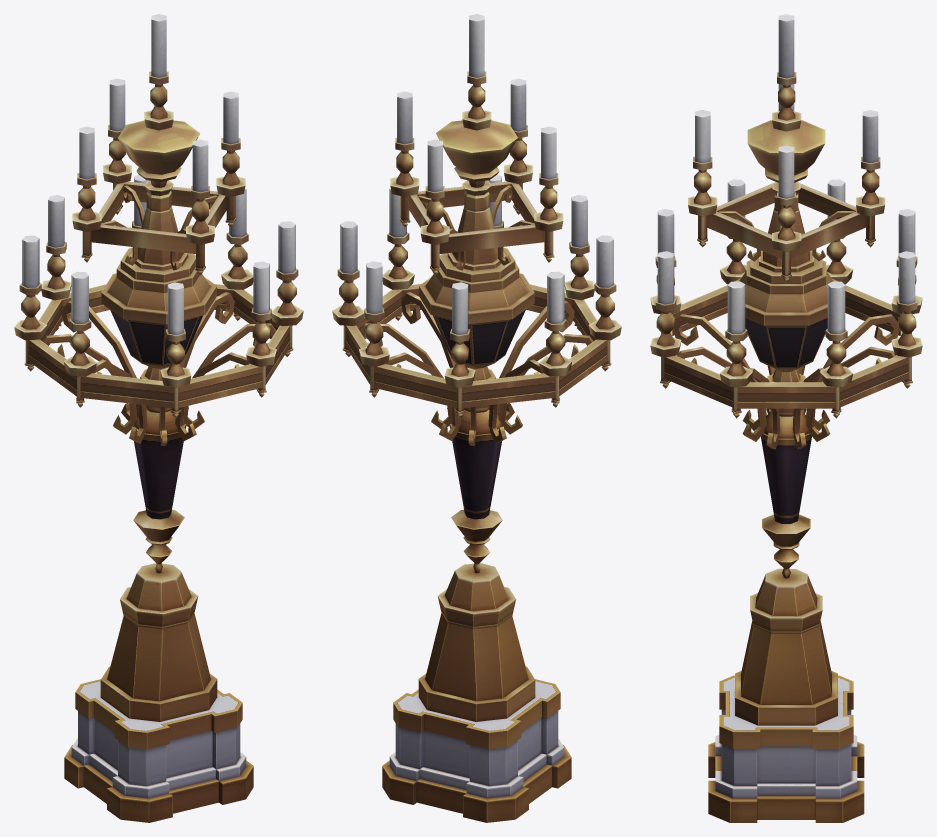
Rendered from my_gehennaparty_01_candlestick_01.glb.
3 renders of one model, left to right at view 1: azimuth 30°, elevation 25°; view 2: azimuth 150°, elevation 25°; view 3: azimuth 270°, elevation 25°, orthographic.
Parts seen in each view (by area): view 1: my_gehennaparty_01_candlestick_01; view 2: my_gehennaparty_01_candlestick_01; view 3: my_gehennaparty_01_candlestick_01.
Boxes of the visible parts, x1,y1,x2,y2 form: my_gehennaparty_01_candlestick_01: (14, 14, 303, 822); my_gehennaparty_01_candlestick_01: (332, 14, 621, 822); my_gehennaparty_01_candlestick_01: (650, 14, 922, 822).
Bounding box in the file's own units: 0.0046 × 0.0144 × 0.0046.
Materials: 1 (1 with a texture image).
